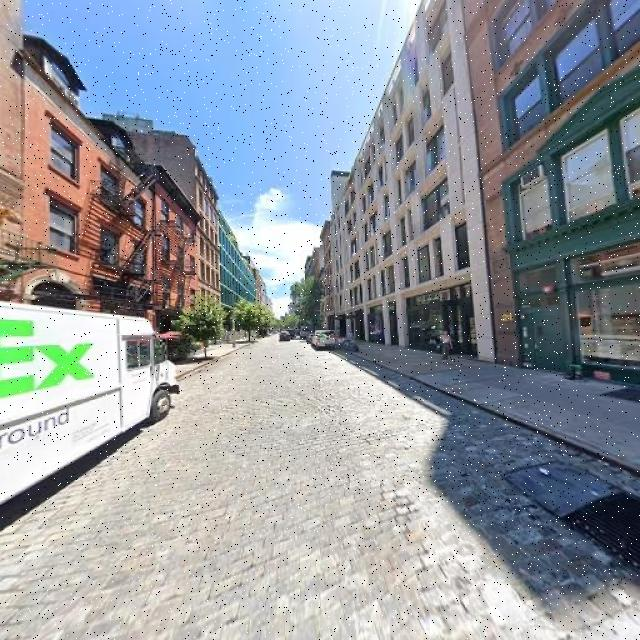Building: (478, 1, 640, 395), (334, 1, 474, 359), (25, 62, 152, 373), (1, 1, 17, 379)
